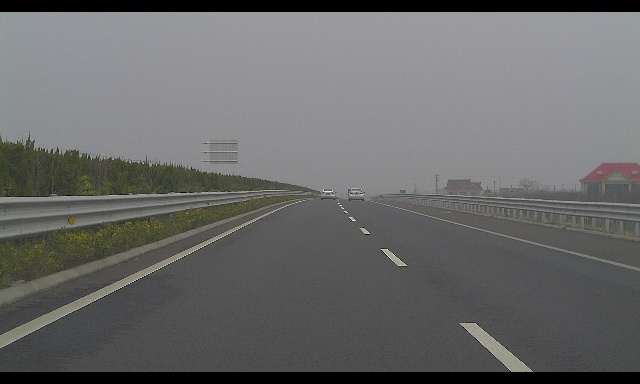car: (348, 188, 365, 201), (320, 188, 337, 200)
